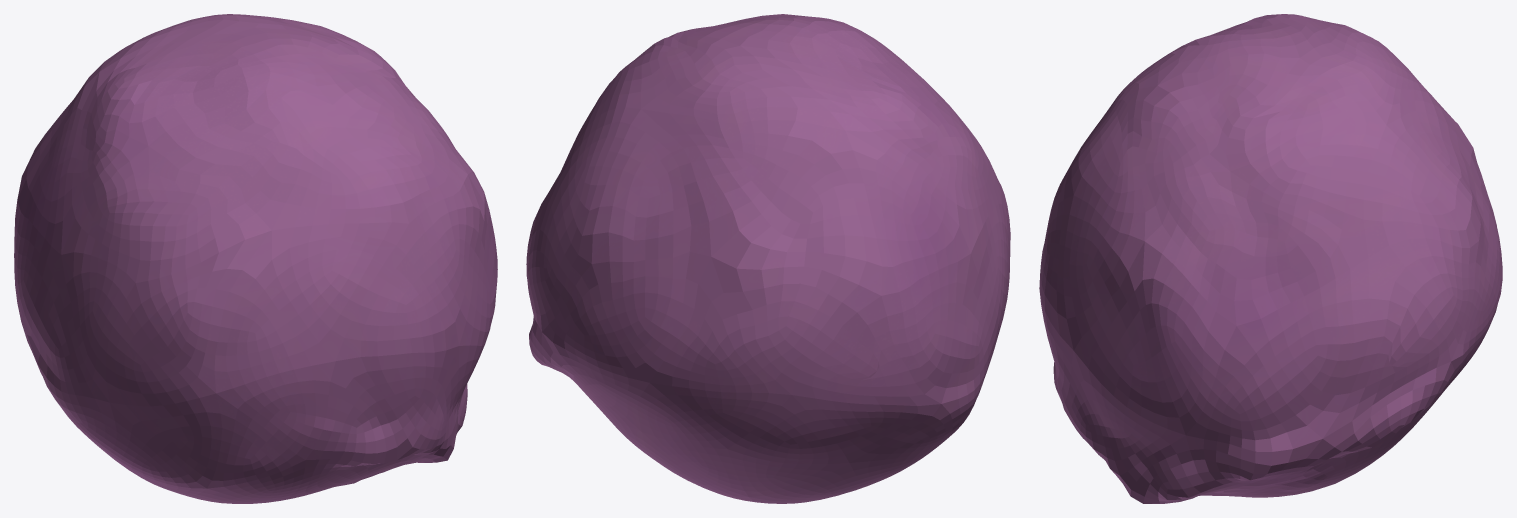
The model's file is bolafresa.fbx.
The picture shows the model from 3 angles, left to right: view 1: azimuth 30°, elevation 25°; view 2: azimuth 150°, elevation 25°; view 3: azimuth 270°, elevation 25°; orthographic projection. The views are drawn at different scales.
Parts seen in each view (by area): view 1: Icosphere; view 2: Icosphere; view 3: Icosphere.
Boxes of the visible parts, box(x1,y1,x2,y2) form: Icosphere: box(14, 14, 497, 503); Icosphere: box(526, 14, 1010, 503); Icosphere: box(1039, 14, 1502, 503).
Size of the model in its own units: 138 by 143 by 139.
1 material, 1 textured.
